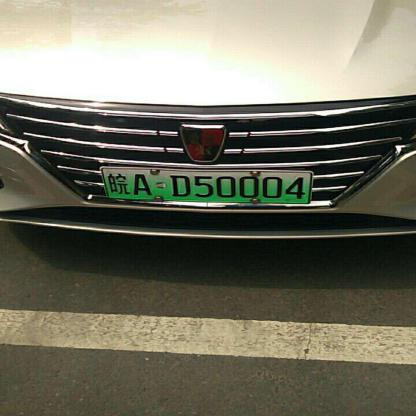lp: (102, 168, 312, 202)
